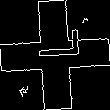L_W: (29, 38, 81, 72)
